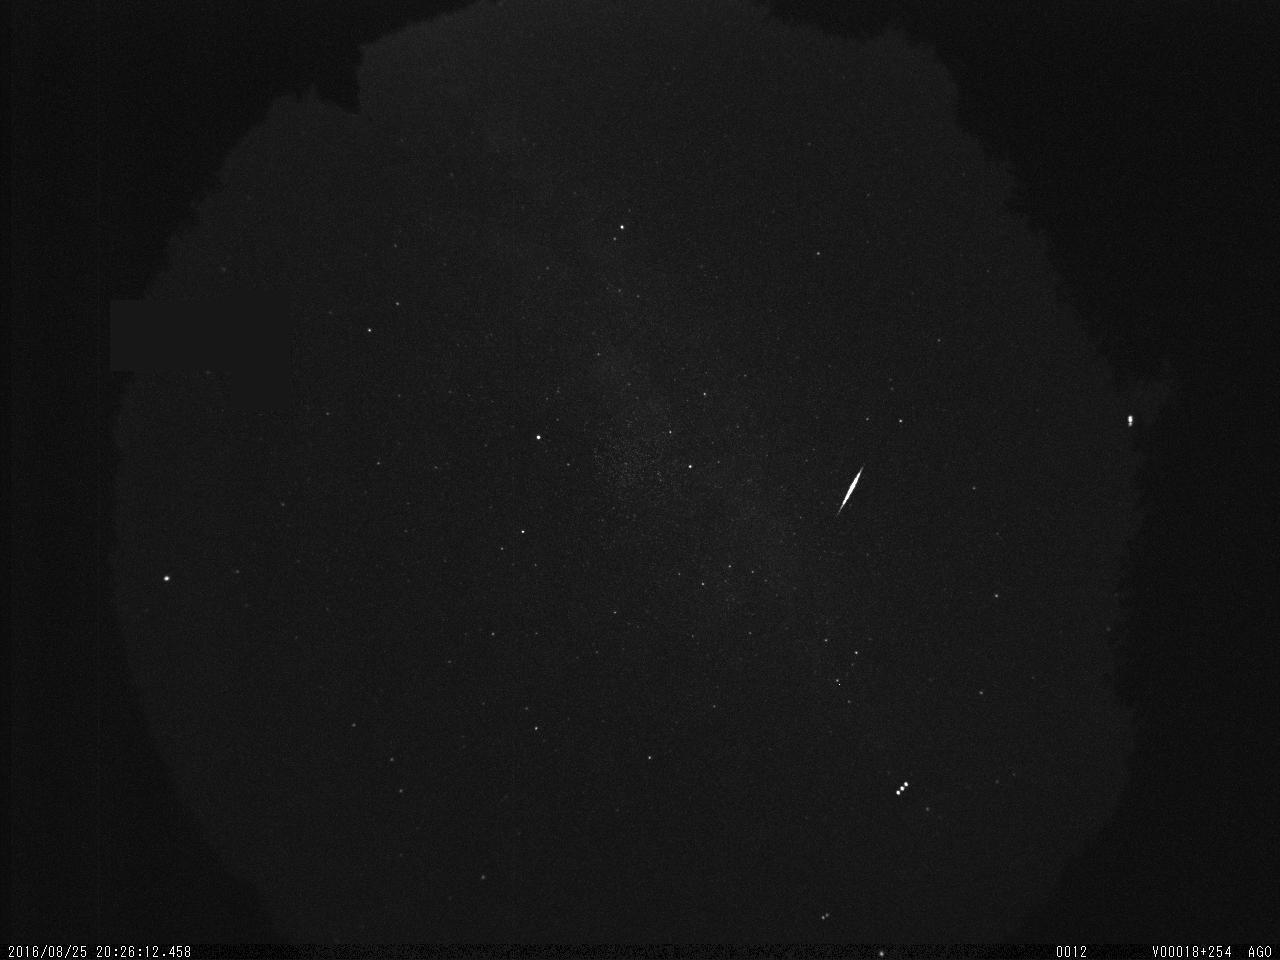Meteor: (833, 458, 870, 526)
